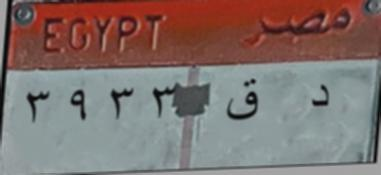3: (142, 79, 181, 122), (24, 79, 52, 130), (103, 83, 138, 123)
9: (62, 82, 94, 126)
daal: (299, 76, 336, 123)
qaaf: (214, 74, 268, 134)
